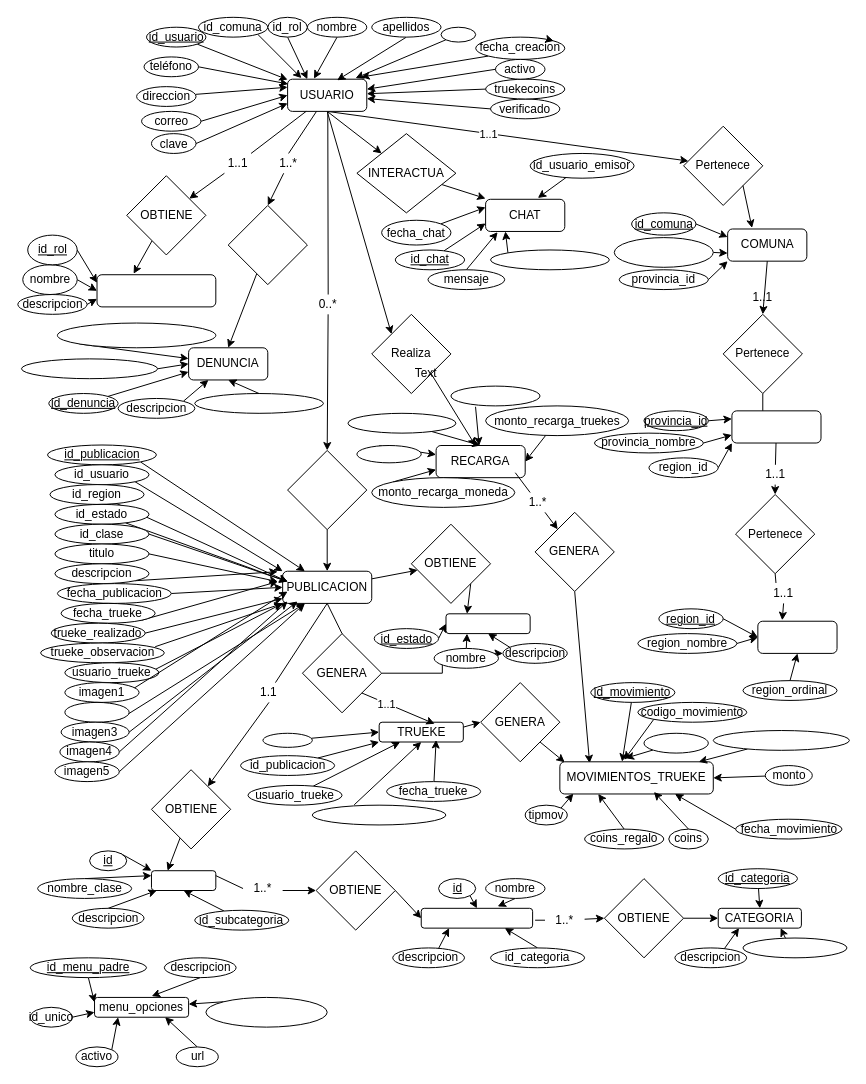
Image size: 866x1084. Some labels were removed from this diagram. The centre of each missing label's shape, as x and y in pixels:
"CLASES" goes at pixel 183 880.
"comuna_nombre" goes at pixel 663 252.
"descripcion_movimiento" goes at pixel 780 740.
"documento" goes at pixel 675 742.
"ENVIA" goes at pixel 267 244.
"ESTADO" goes at pixel 487 623.
"fecha_recarga" goes at pixel 495 395.
"id_parent_menu_hijo" goes at pixel 266 1011.
"id_publicacion_denunciada" goes at pixel 136 335.
"id_publicacion_trueke" goes at pixel 378 814.
"id_recarga" goes at pixel 388 454.
"id_trueke" goes at pixel 287 739.
"id_usuario_denuncia" goes at pixel 258 403.
"id_usuario_denunciado" goes at pixel 89 368.
"id_usuario_recarga" goes at pixel 401 422.
"id_usuario_receptor" goes at pixel 549 259.
"imagen2" goes at pixel 96 711.
"nombre_categoria" goes at pixel 794 947.
"PROVINCIA" goes at pixel 776 426.
"PUBLICA" goes at pixel 327 489.
"REGION" goes at pixel 797 636.
"ROL" goes at pixel 156 290.
"rut" goes at pixel 458 34.
"SUB_CATEGORIA" goes at pixel 476 917.
